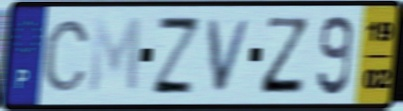9: (316, 14, 355, 97)
C: (41, 17, 92, 94)
M: (86, 14, 144, 97)
V: (205, 16, 256, 95)
Z: (149, 14, 205, 97), (258, 15, 312, 96)
